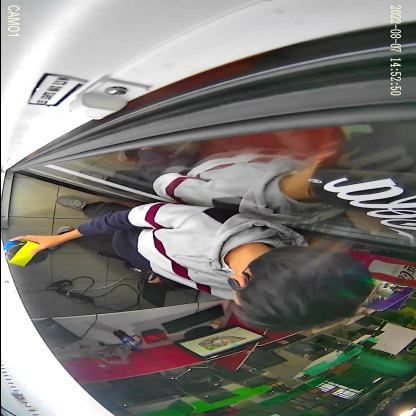blue: (2, 238, 25, 254)
yellow: (4, 241, 48, 267)
